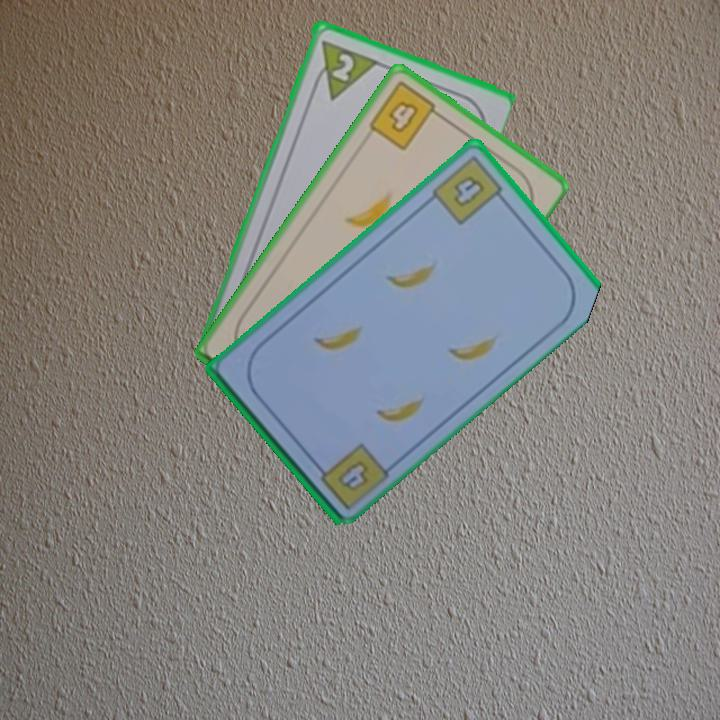2p: (306, 35, 379, 103)
4b: (428, 152, 510, 228), (365, 77, 446, 153), (334, 456, 372, 494)
